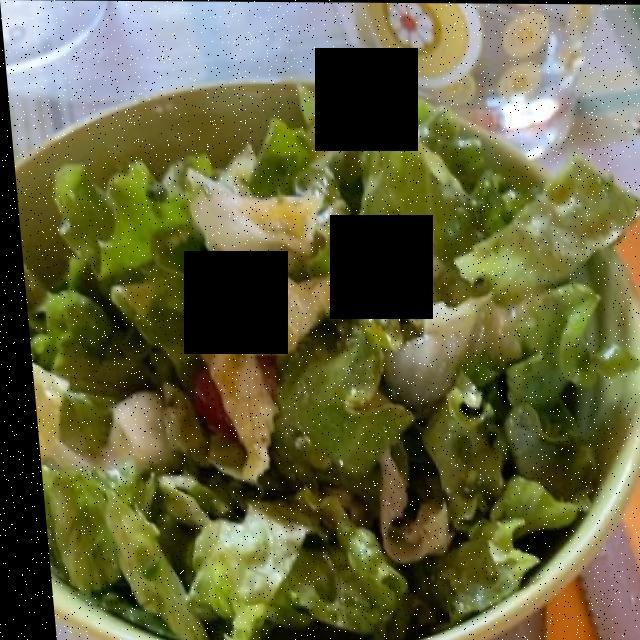salad: (40, 108, 623, 626)
tomato: (169, 352, 274, 427)
